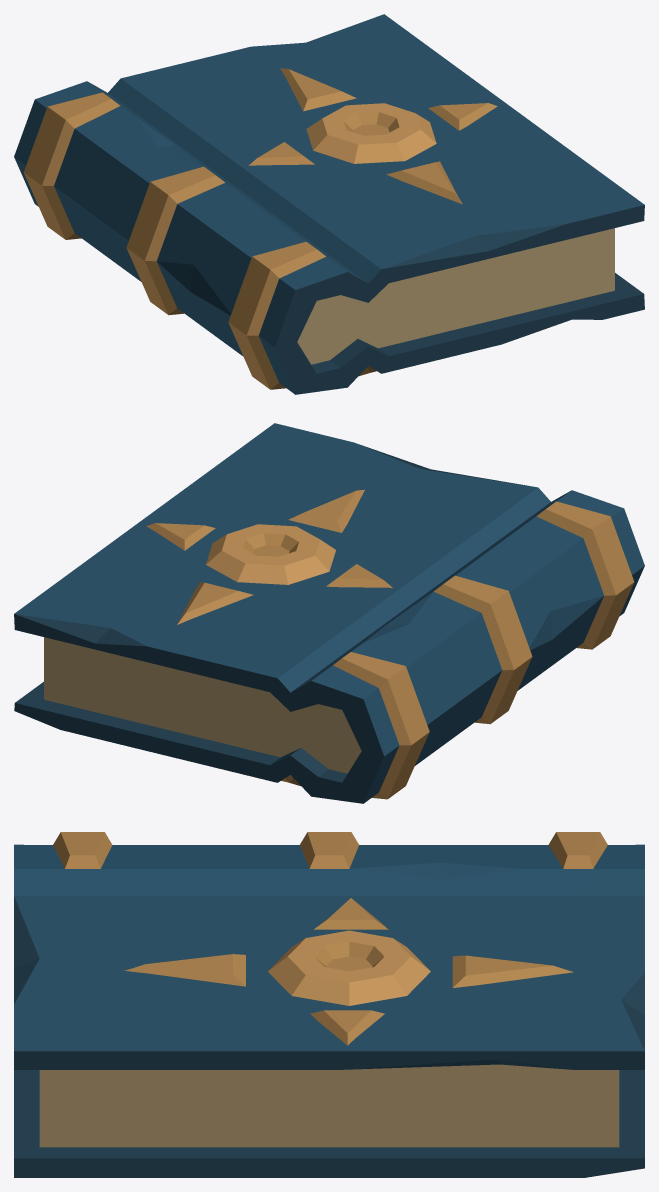
The model's file is SM_Prop_Book_02.fbx.
The picture shows the model from 3 angles, top to bottom: view 1: azimuth 30°, elevation 25°; view 2: azimuth 150°, elevation 25°; view 3: azimuth 270°, elevation 25°; orthographic projection. The views are drawn at different scales.
Parts seen in each view (by area): view 1: SM_Prop_Book_02; view 2: SM_Prop_Book_02; view 3: SM_Prop_Book_02.
Boxes of the visible parts, left/top/right/bottom form: SM_Prop_Book_02: left=14, top=14, right=644, bottom=394; SM_Prop_Book_02: left=14, top=423, right=644, bottom=803; SM_Prop_Book_02: left=14, top=832, right=644, bottom=1177.
Size of the model in its own units: 28.45 by 9.45 by 33.88.
